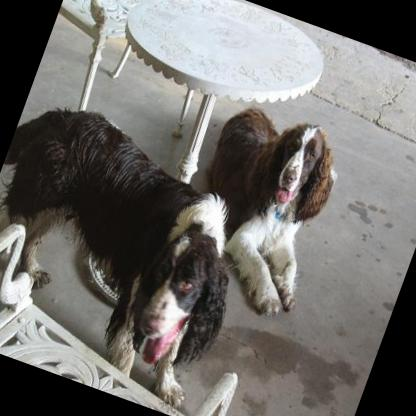English_springer: (0, 83, 277, 411), (163, 92, 356, 322)
